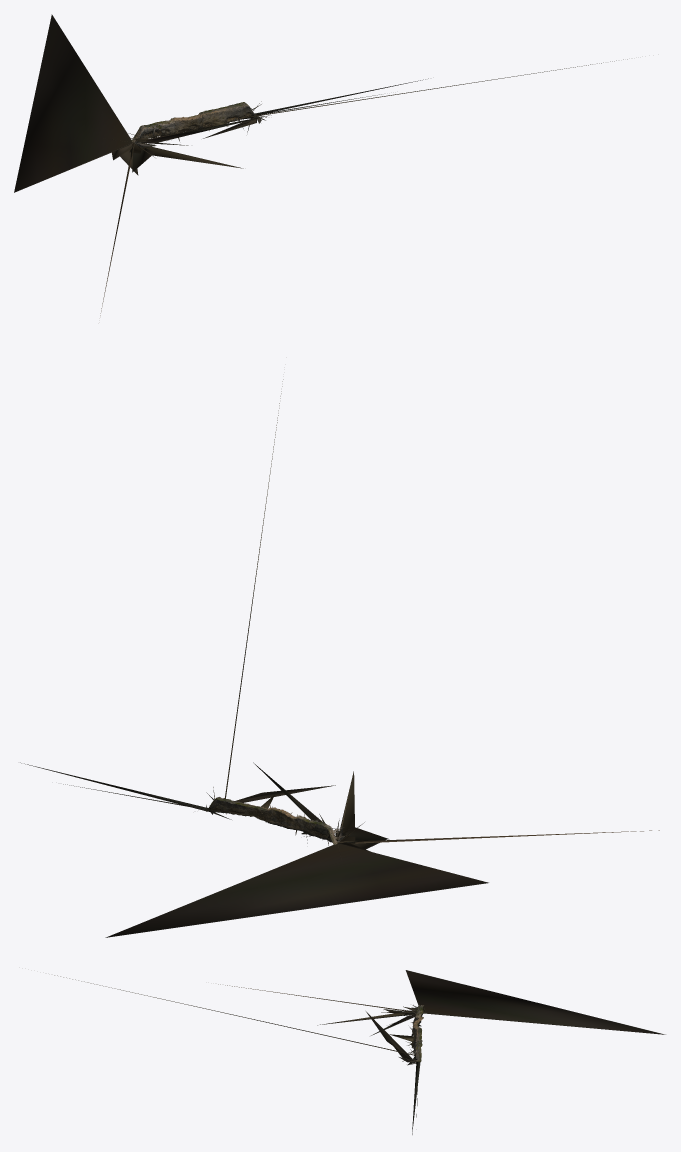
The model's file is coastal-cliff-sealed.glb.
The picture shows the model from 3 angles, top to bottom: view 1: azimuth 30°, elevation 25°; view 2: azimuth 150°, elevation 25°; view 3: azimuth 270°, elevation 25°; orthographic projection. The views are drawn at different scales.
Visible parts, largest first — view 1: coastal_cliff_01; view 2: coastal_cliff_01; view 3: coastal_cliff_01.
Part boxes in pixels (box(x1,y1,x2,y2)): coastal_cliff_01: box(14, 14, 627, 315); coastal_cliff_01: box(20, 379, 659, 937); coastal_cliff_01: box(54, 970, 665, 1134).
Size of the model in its own units: 356 by 176 by 515.
1 material, 1 textured.
